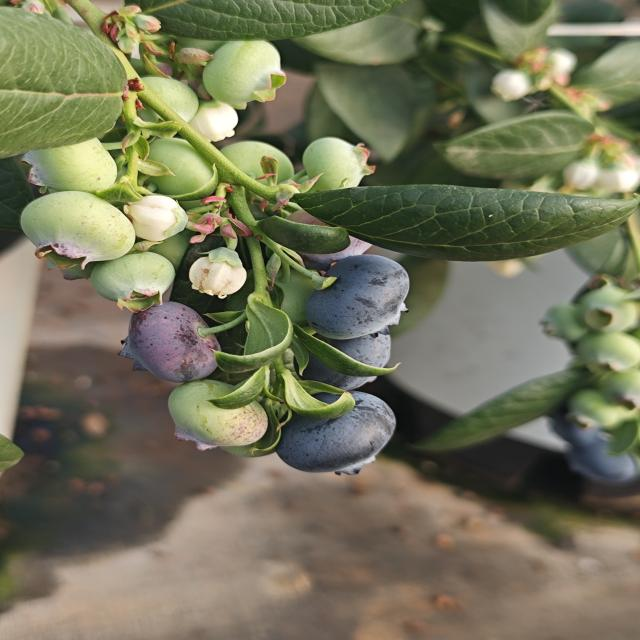ripe: (275, 402, 403, 472), (298, 253, 409, 328), (288, 330, 407, 394), (126, 298, 218, 378), (551, 412, 637, 485), (285, 223, 382, 270)
